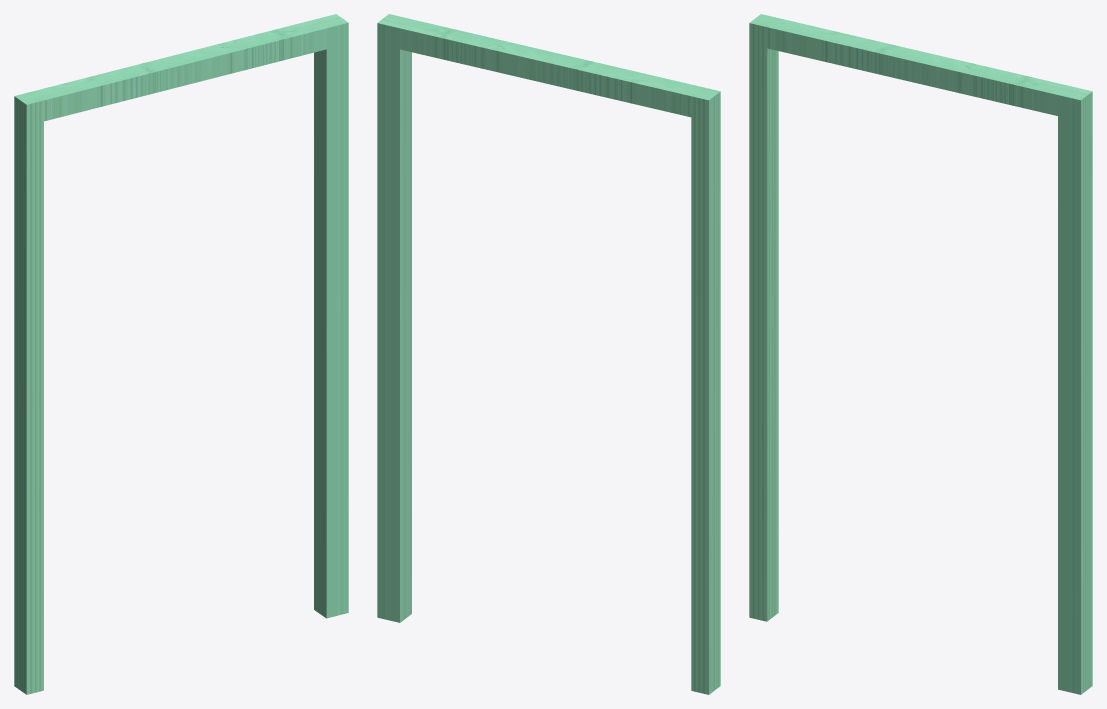
The model's file is MarcoPuerta.obj.
3 views of the same model, side by side, from view 1: azimuth 30°, elevation 25°; view 2: azimuth 150°, elevation 25°; view 3: azimuth 330°, elevation 25° (orthographic).
Parts seen in each view (by area): view 1: pCube3; view 2: pCube3; view 3: pCube3.
Boxes of the visible parts, left/top/right/bottom form: pCube3: left=14, top=14, right=348, bottom=694; pCube3: left=377, top=14, right=720, bottom=694; pCube3: left=749, top=14, right=1092, bottom=694.
Size of the model in its own units: 10.25 by 17.73 by 0.858.
Materials: 1 (1 with a texture image).
